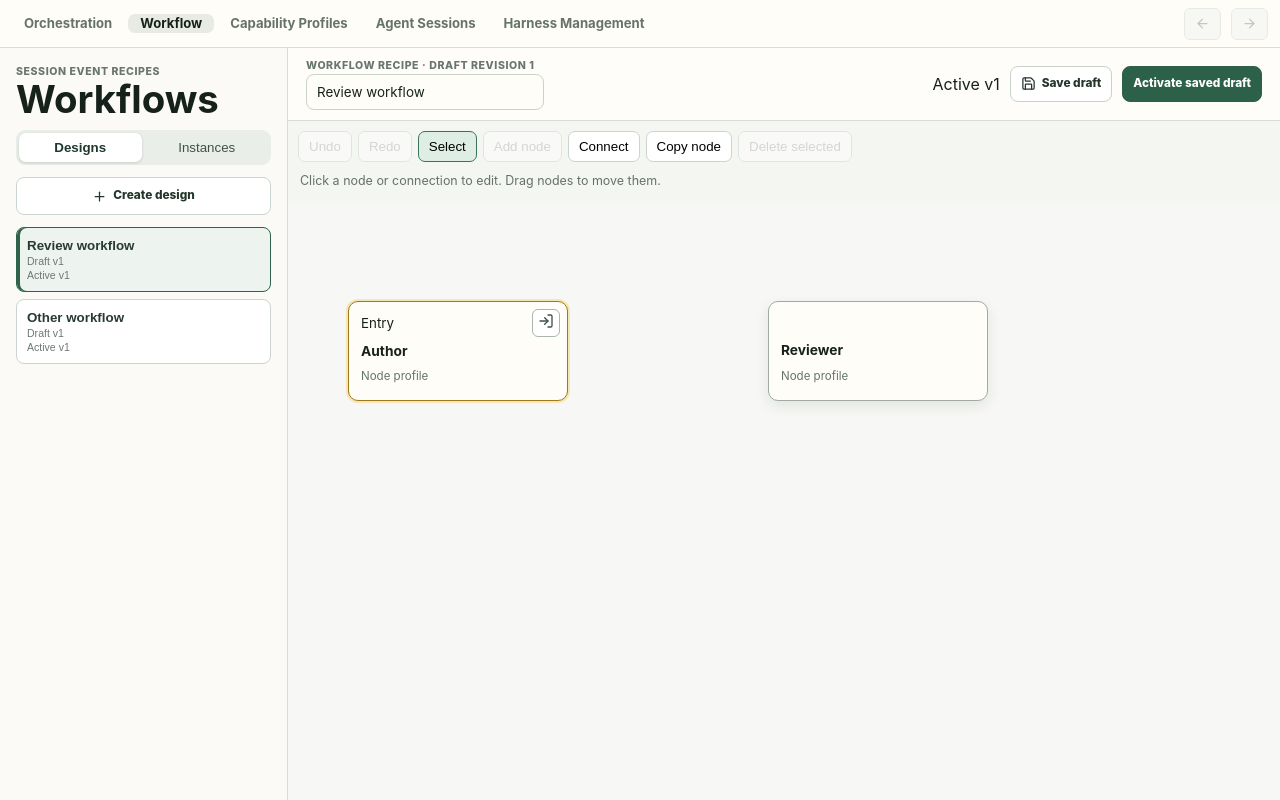
keeps recipe edits while visiting Capability Profiles and returning through product navigation
The image size is (1280, 800).
Step 1. Replace the text in the field named "Workflow name" with "Keep my edits" → (425, 92), box [306,74,544,110]
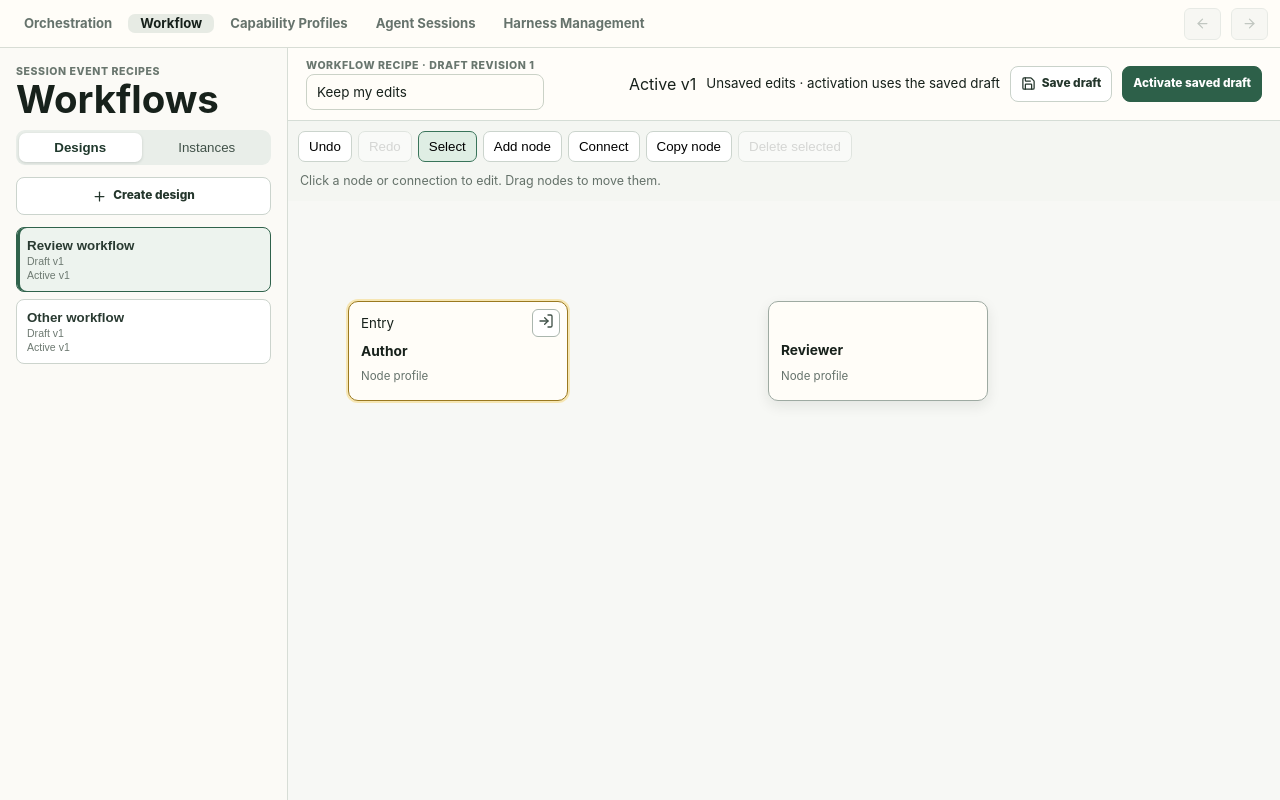
Step 2. Click the button "Capability Profiles" → (289, 24), box [218,14,360,33]
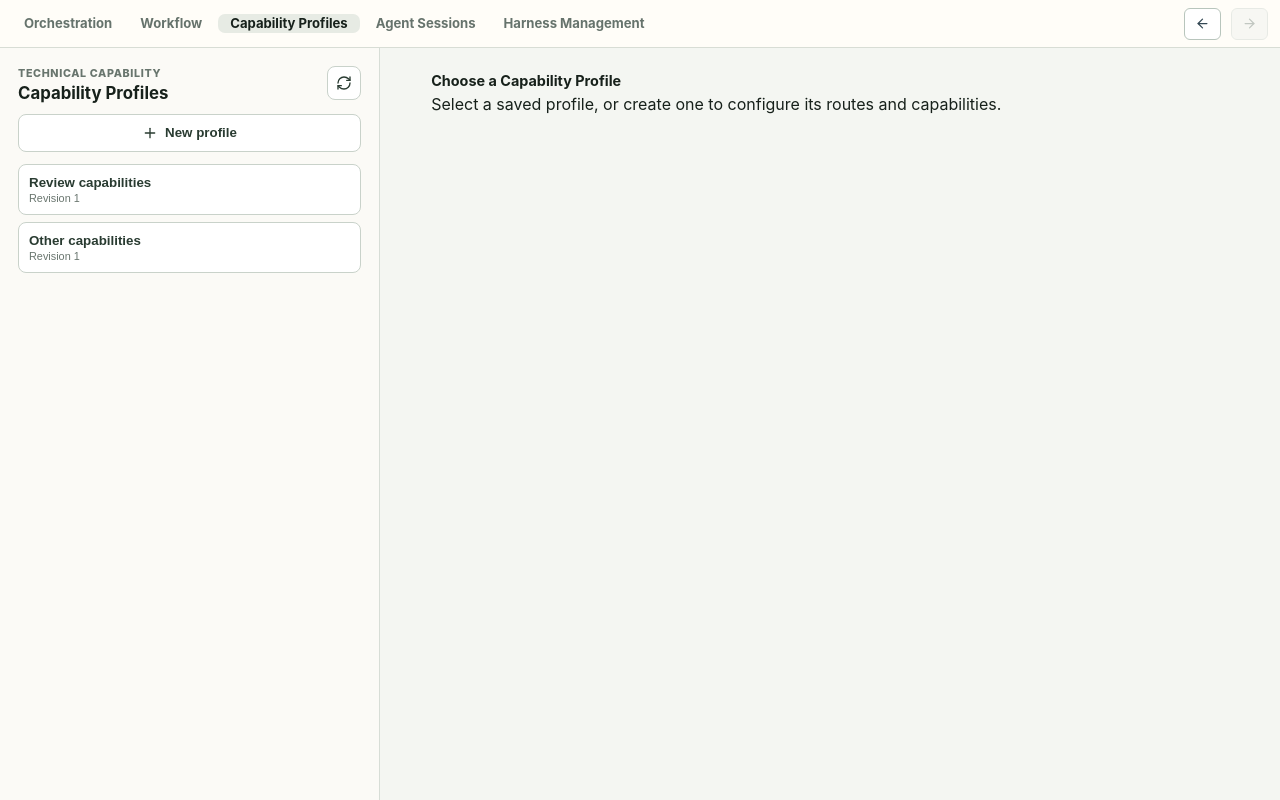
Step 3. Click the button "New profile" → (190, 133), box [18,114,361,152]
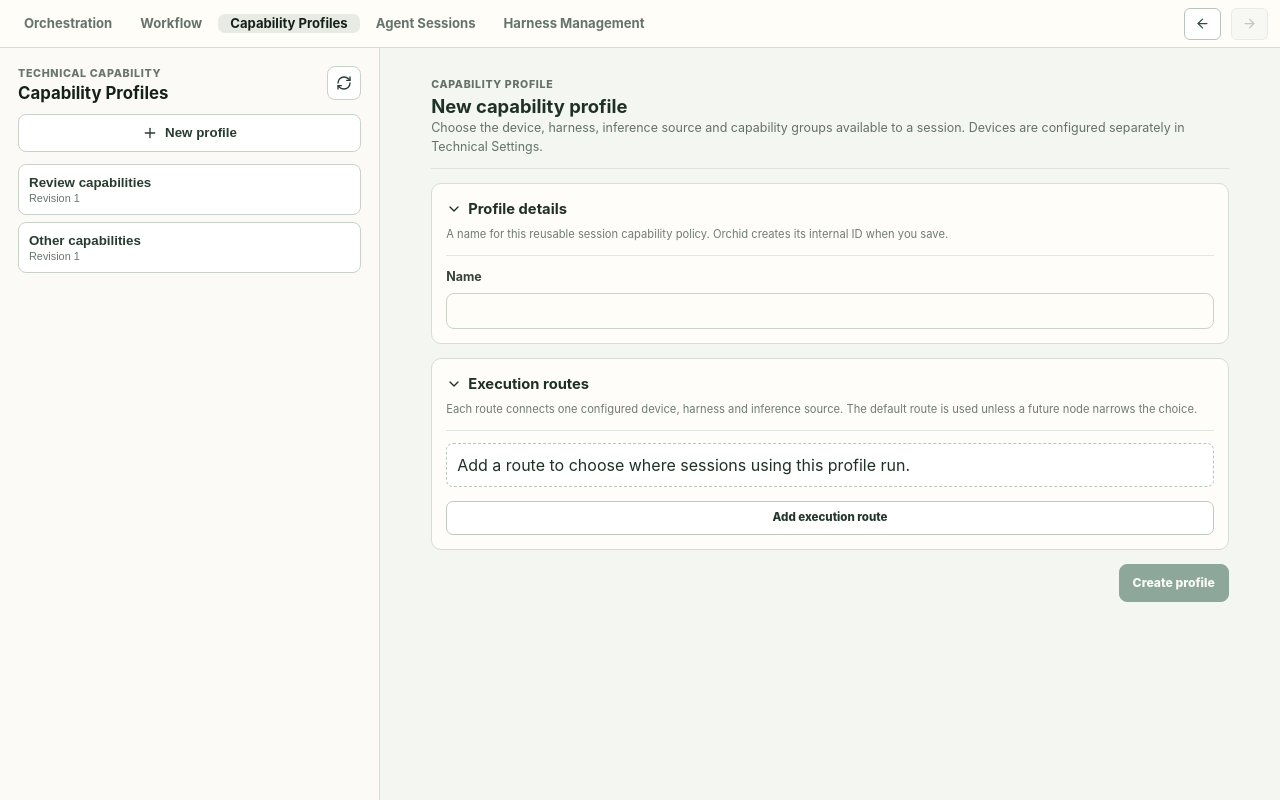
expect the field named "Capability profile name" is shown: met, box [446,293,1214,329]
Step 4. Click the button "Workflow" → (171, 24), box [128,14,214,33]
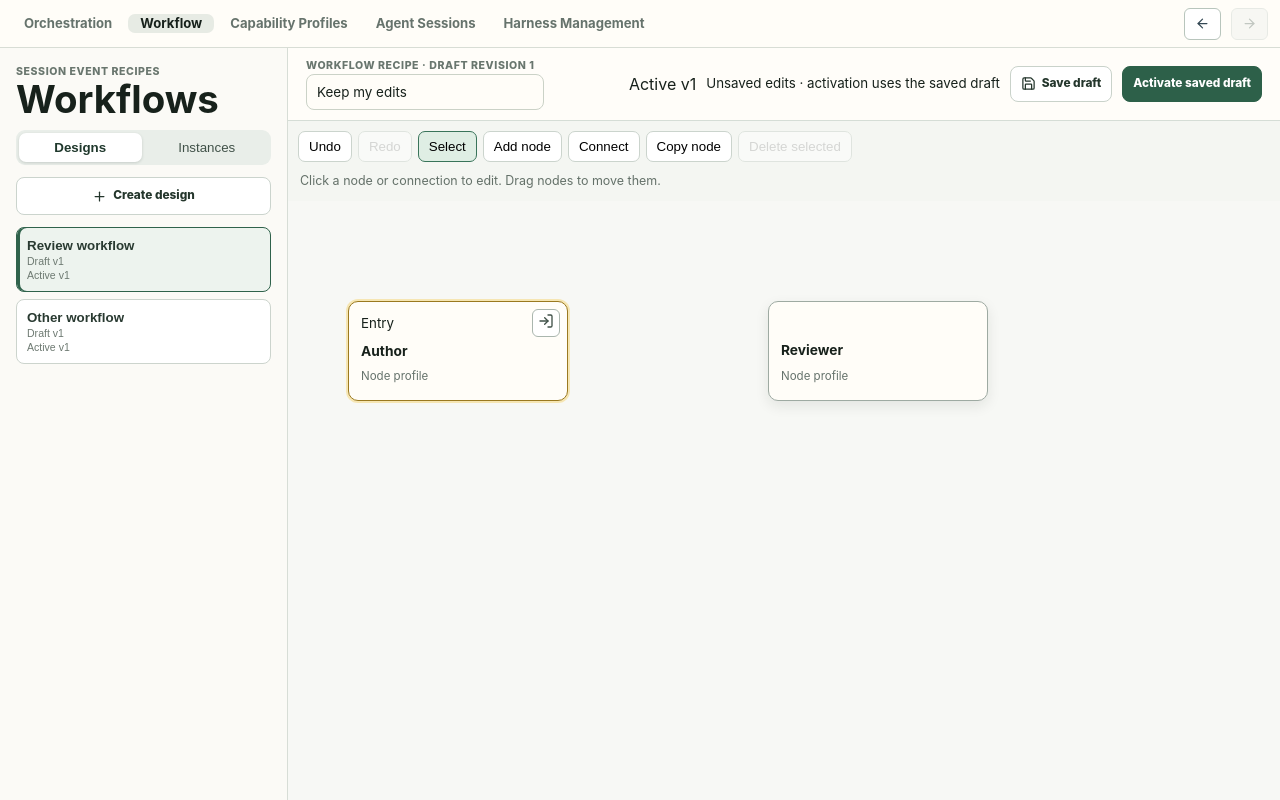
expect the field named "Workflow name" holds "Keep my edits": met, box [306,74,544,110]
